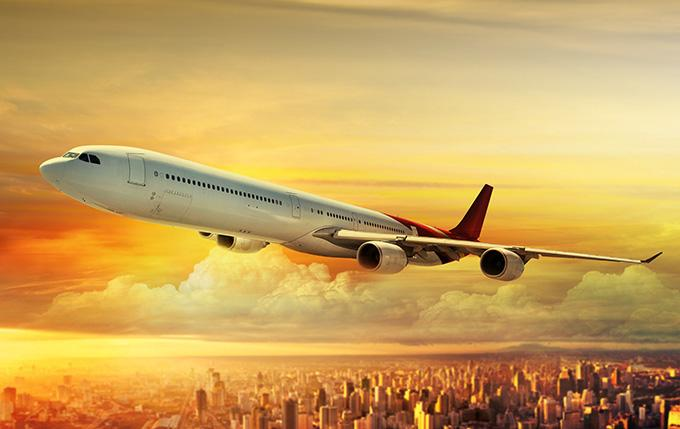airplane: (38, 139, 667, 284)
